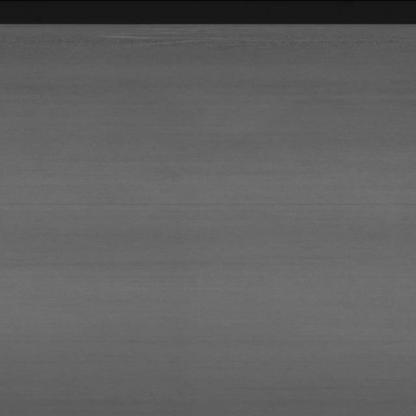silk_spot: (100, 26, 210, 58)
